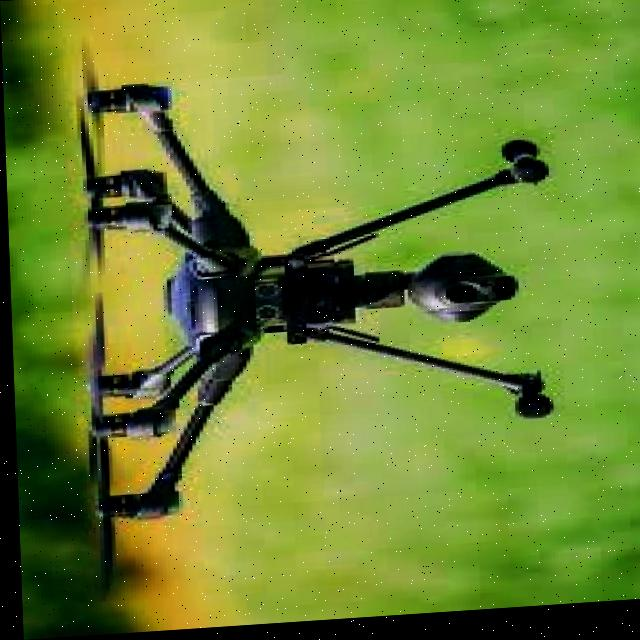drone: (31, 9, 443, 595)
